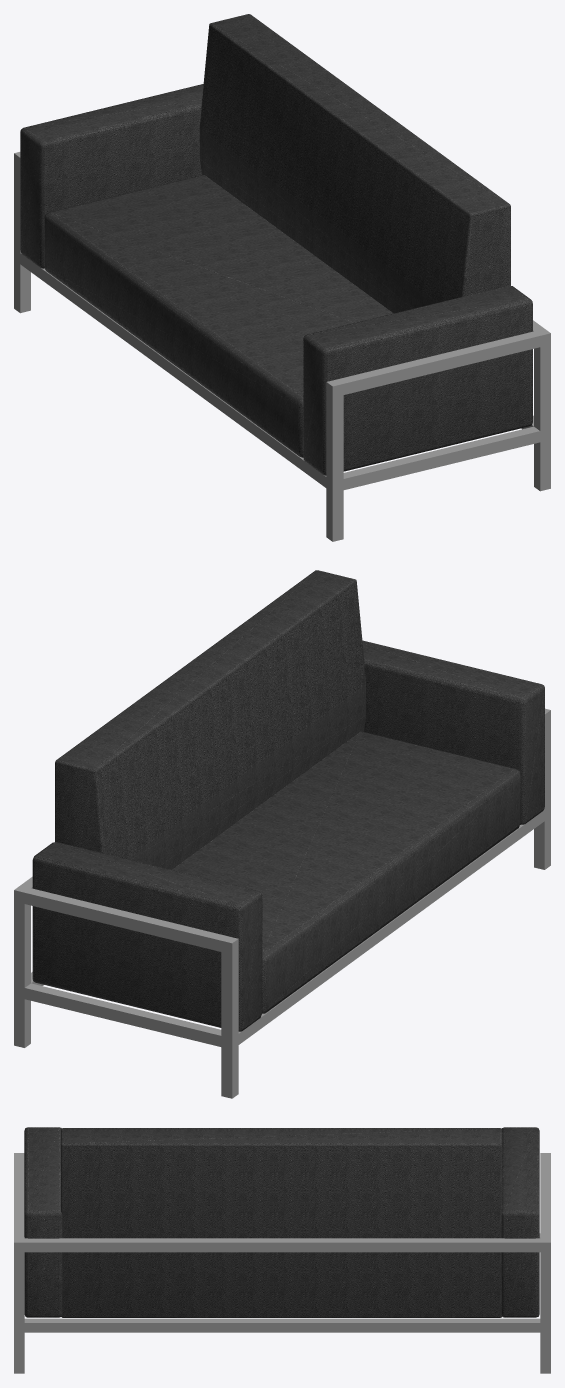
The model's file is CK-shafa0002-CJBZ.FBX.
3 views of the same model, one above another, from view 1: azimuth 30°, elevation 25°; view 2: azimuth 150°, elevation 25°; view 3: azimuth 270°, elevation 25° (orthographic). The views are drawn at different scales.
Visible parts, largest first — view 1: CK-shafa0002-CJBZ; view 2: CK-shafa0002-CJBZ; view 3: CK-shafa0002-CJBZ.
Boxes of the visible parts, x1,y1,x2,y2 form: CK-shafa0002-CJBZ: (14, 14, 550, 541); CK-shafa0002-CJBZ: (14, 570, 550, 1098); CK-shafa0002-CJBZ: (14, 1127, 550, 1373).
Size of the model in its own units: 0.8374 by 0.9691 by 2.1.
Materials: 2 (1 with a texture image).
